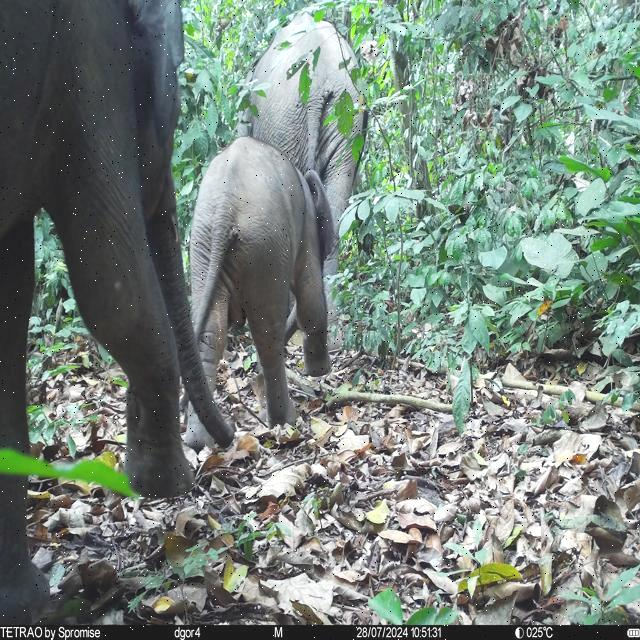calf: (185, 134, 335, 446)
elephant: (0, 42, 236, 625), (244, 41, 368, 272)
